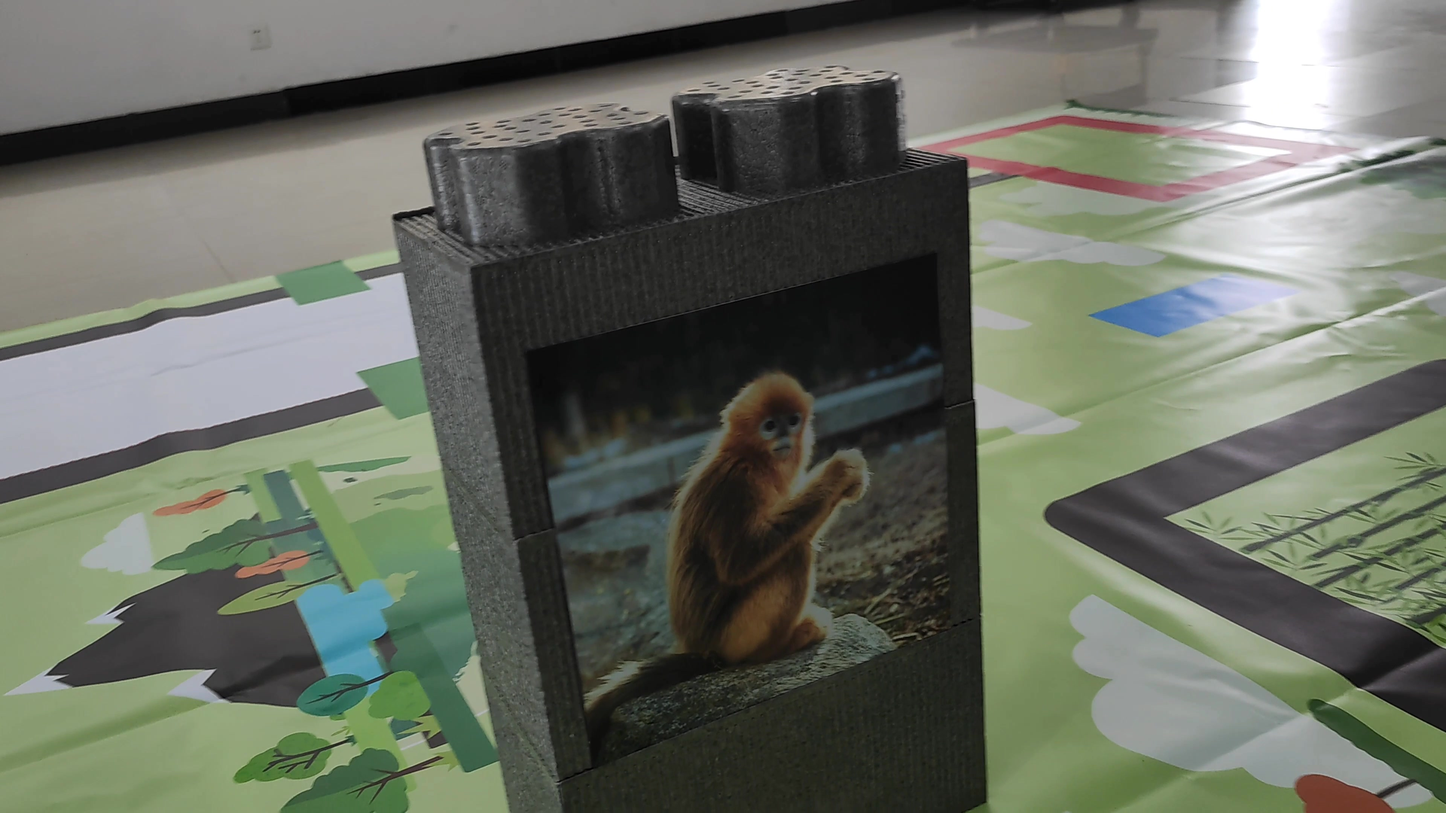monkey: (586, 345, 879, 746)
